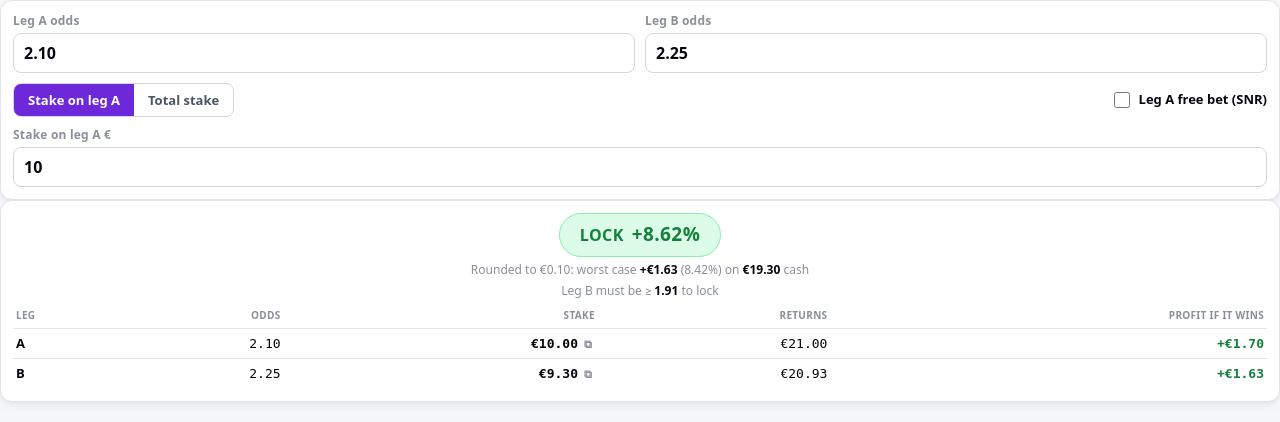
DecimalCalc › total-stake mode splits €100
Step 1. Click the button "Total stake" → [184, 100], box [134,84,233,116]
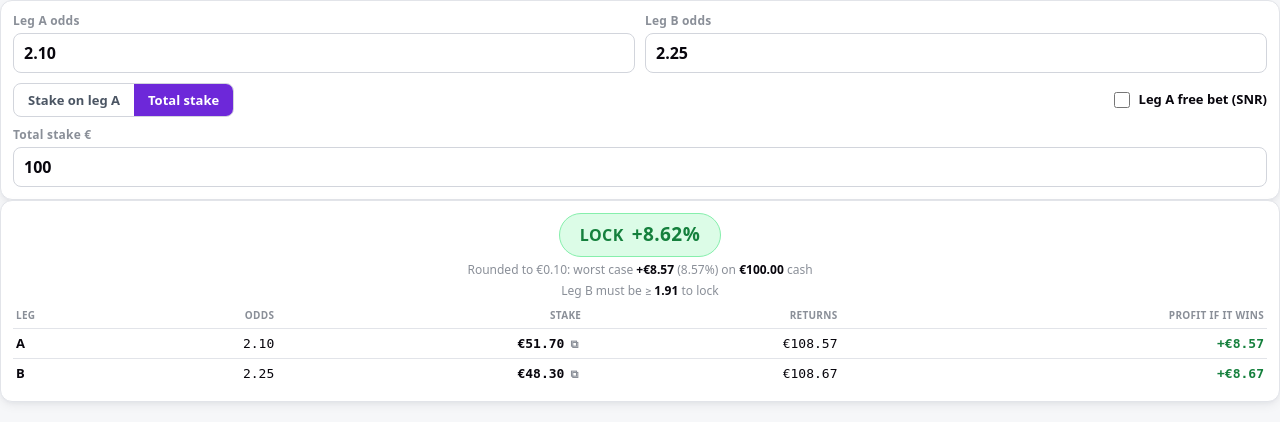
Now the element with test id "decimal-result" shows "€51.70", box [0,200,1279,402]
